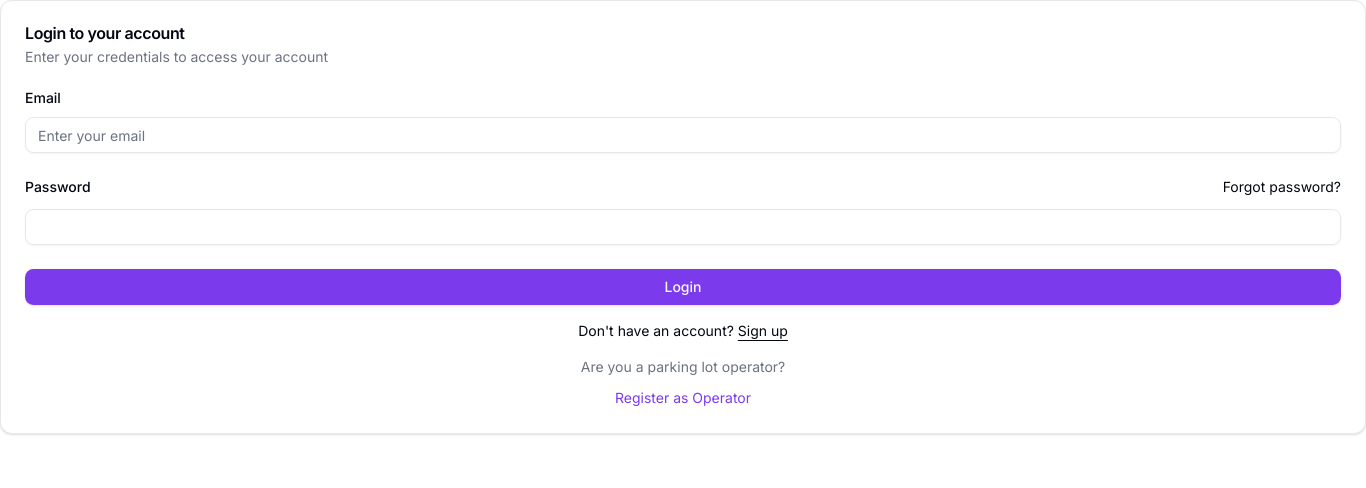
it: LoginForm › should handle login error
// Fill out the form
Type "test@example.com" into the field labelled "Email".
click(683, 135); type("test@example.com")  # box [25,117,1341,153]
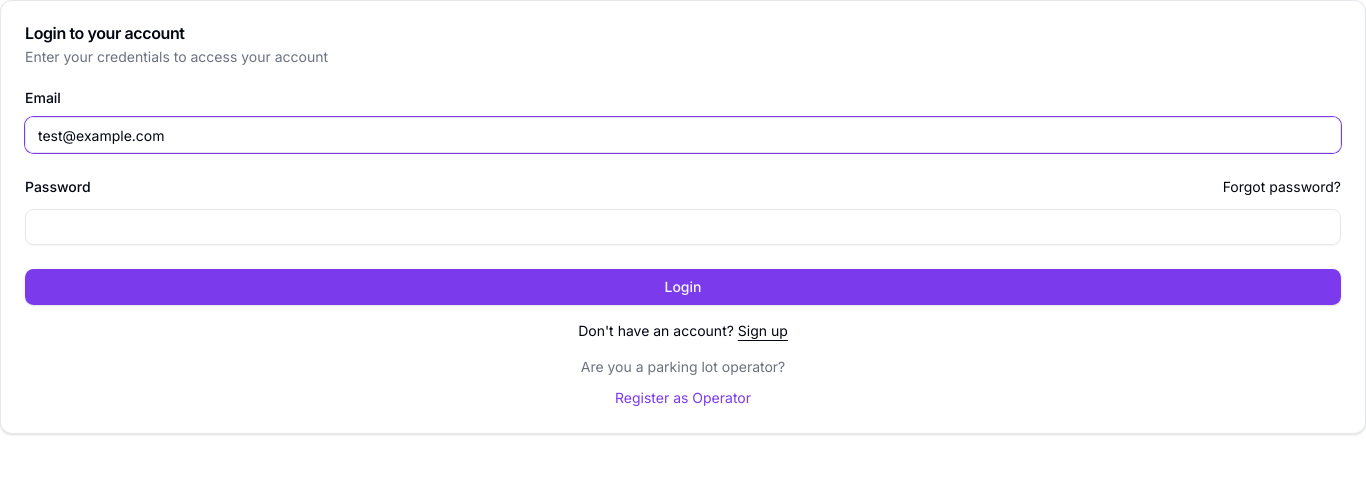
Type "wrongpassword" into the password field labelled "Password".
click(683, 227); type("wrongpassword")  # box [25,209,1341,245]
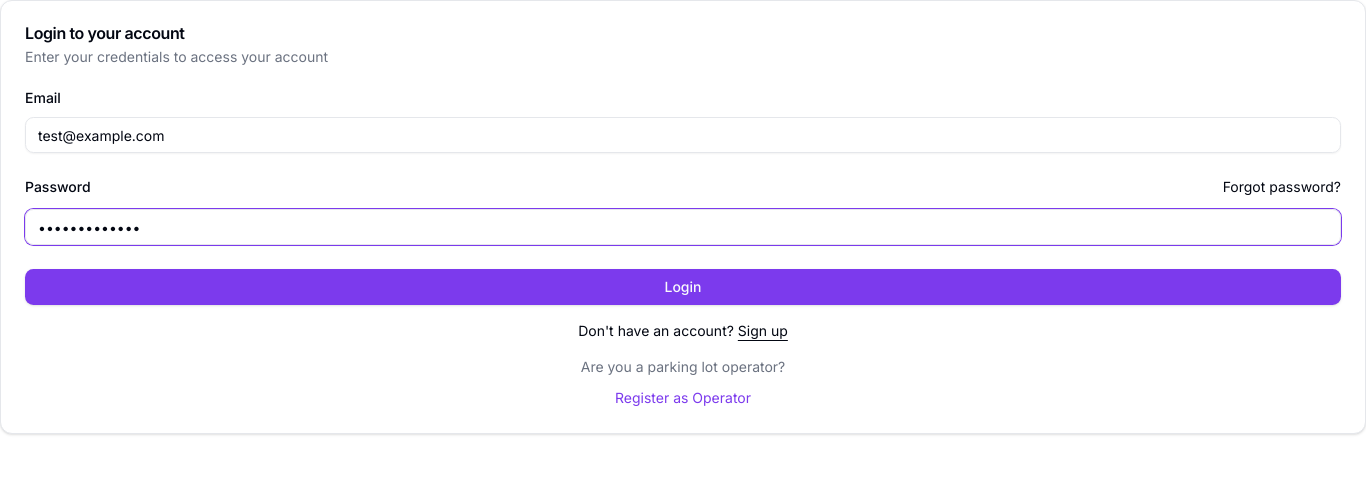
// Submit the form
Click the button "Login".
click(683, 287)  # box [25,269,1341,305]
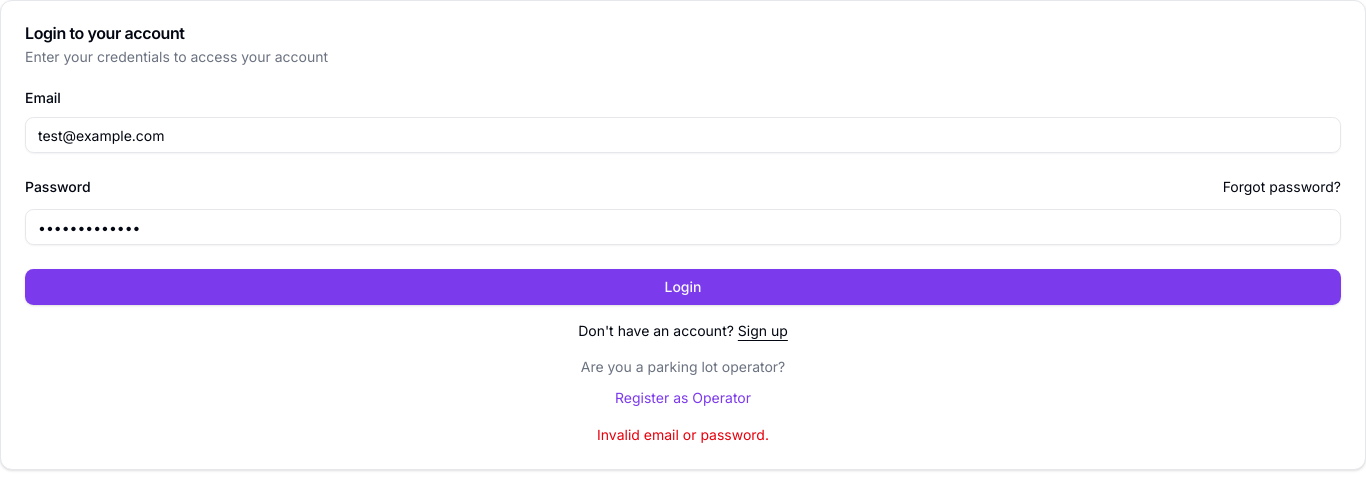
expect the text "Invalid email or password." is shown: met, box [597,426,769,443]
